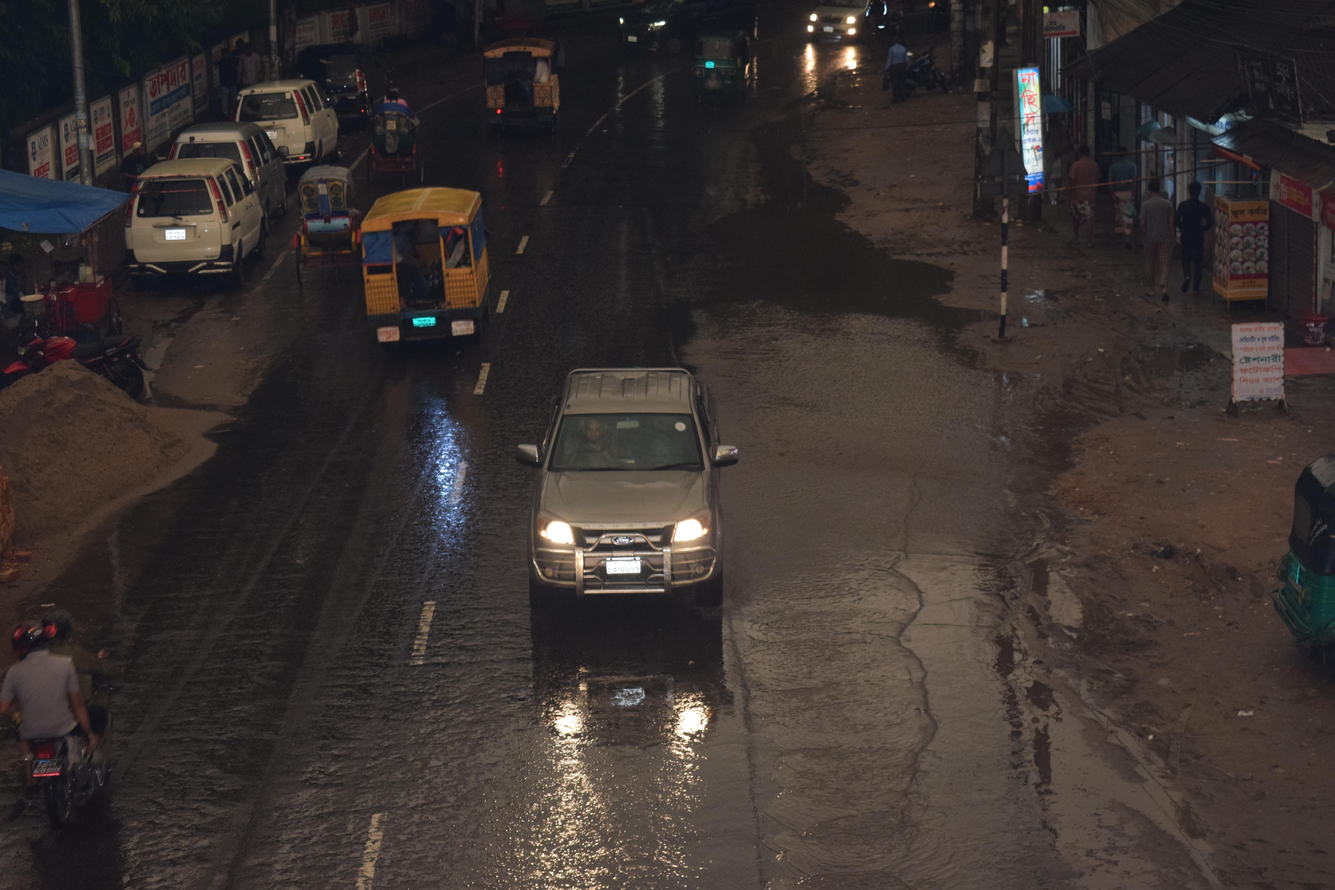Bike: (0, 559, 149, 868)
Car: (457, 316, 775, 695), (327, 170, 531, 380), (103, 134, 295, 300), (267, 158, 385, 299), (161, 107, 307, 218), (459, 22, 585, 135), (218, 71, 355, 174), (352, 78, 434, 196)
